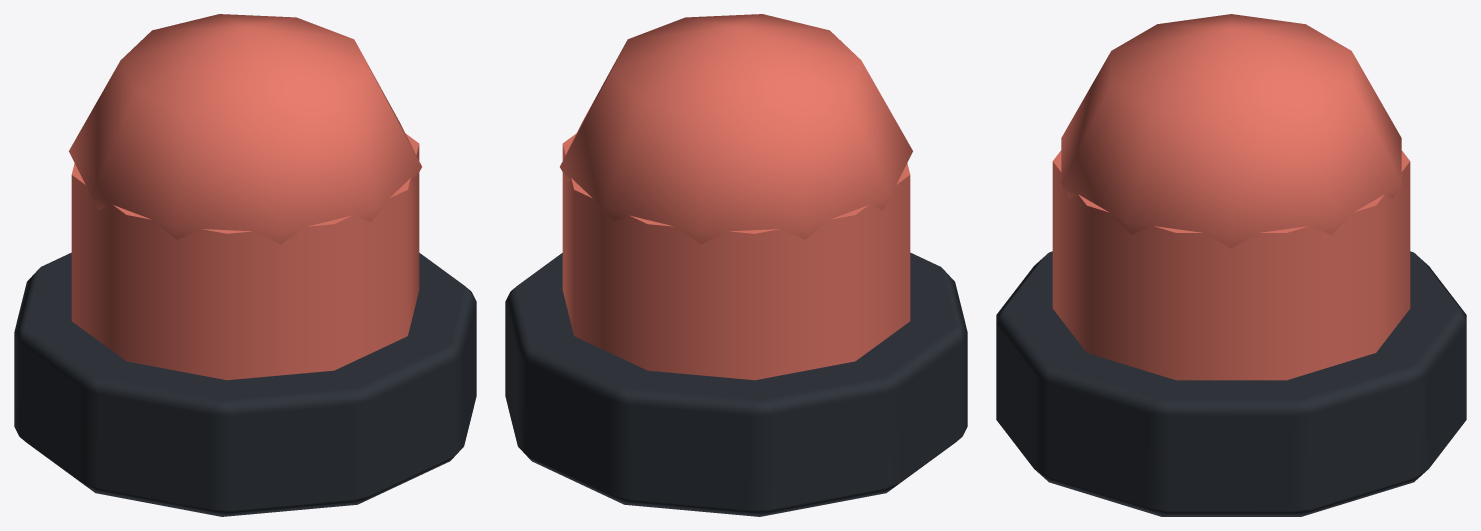
Rendered from CM_Event_EmergencyLight.fbx.
The picture shows the model from 3 angles, left to right: view 1: azimuth 30°, elevation 25°; view 2: azimuth 150°, elevation 25°; view 3: azimuth 270°, elevation 25°; orthographic projection.
Visible parts, largest first — view 1: Light, Body; view 2: Light, Body; view 3: Light, Body.
Boxes of the visible parts, <box> form: Light: <box>69,14,421,380</box>; Body: <box>14,252,476,516</box>; Light: <box>560,14,912,380</box>; Body: <box>505,252,967,516</box>; Light: <box>1052,14,1410,380</box>; Body: <box>996,251,1466,516</box>.
Bounding box in the file's own units: 1.4 × 1.45 × 1.35.
1 material, 1 textured.
